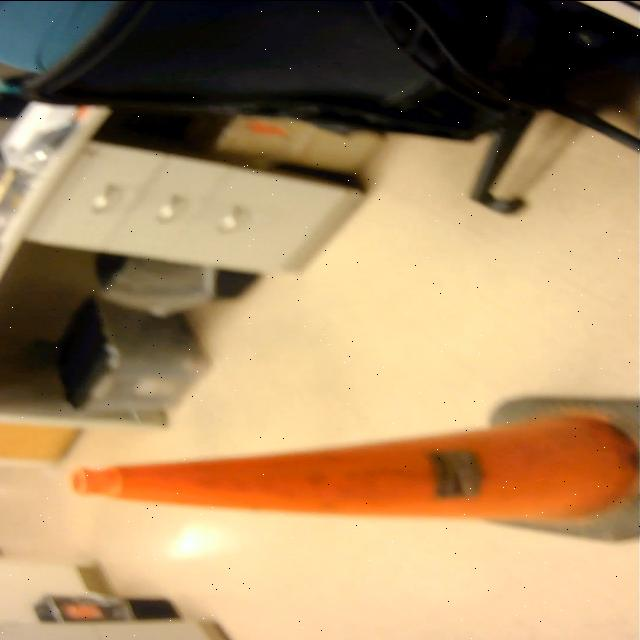traffic cone: (63, 392, 640, 548)
